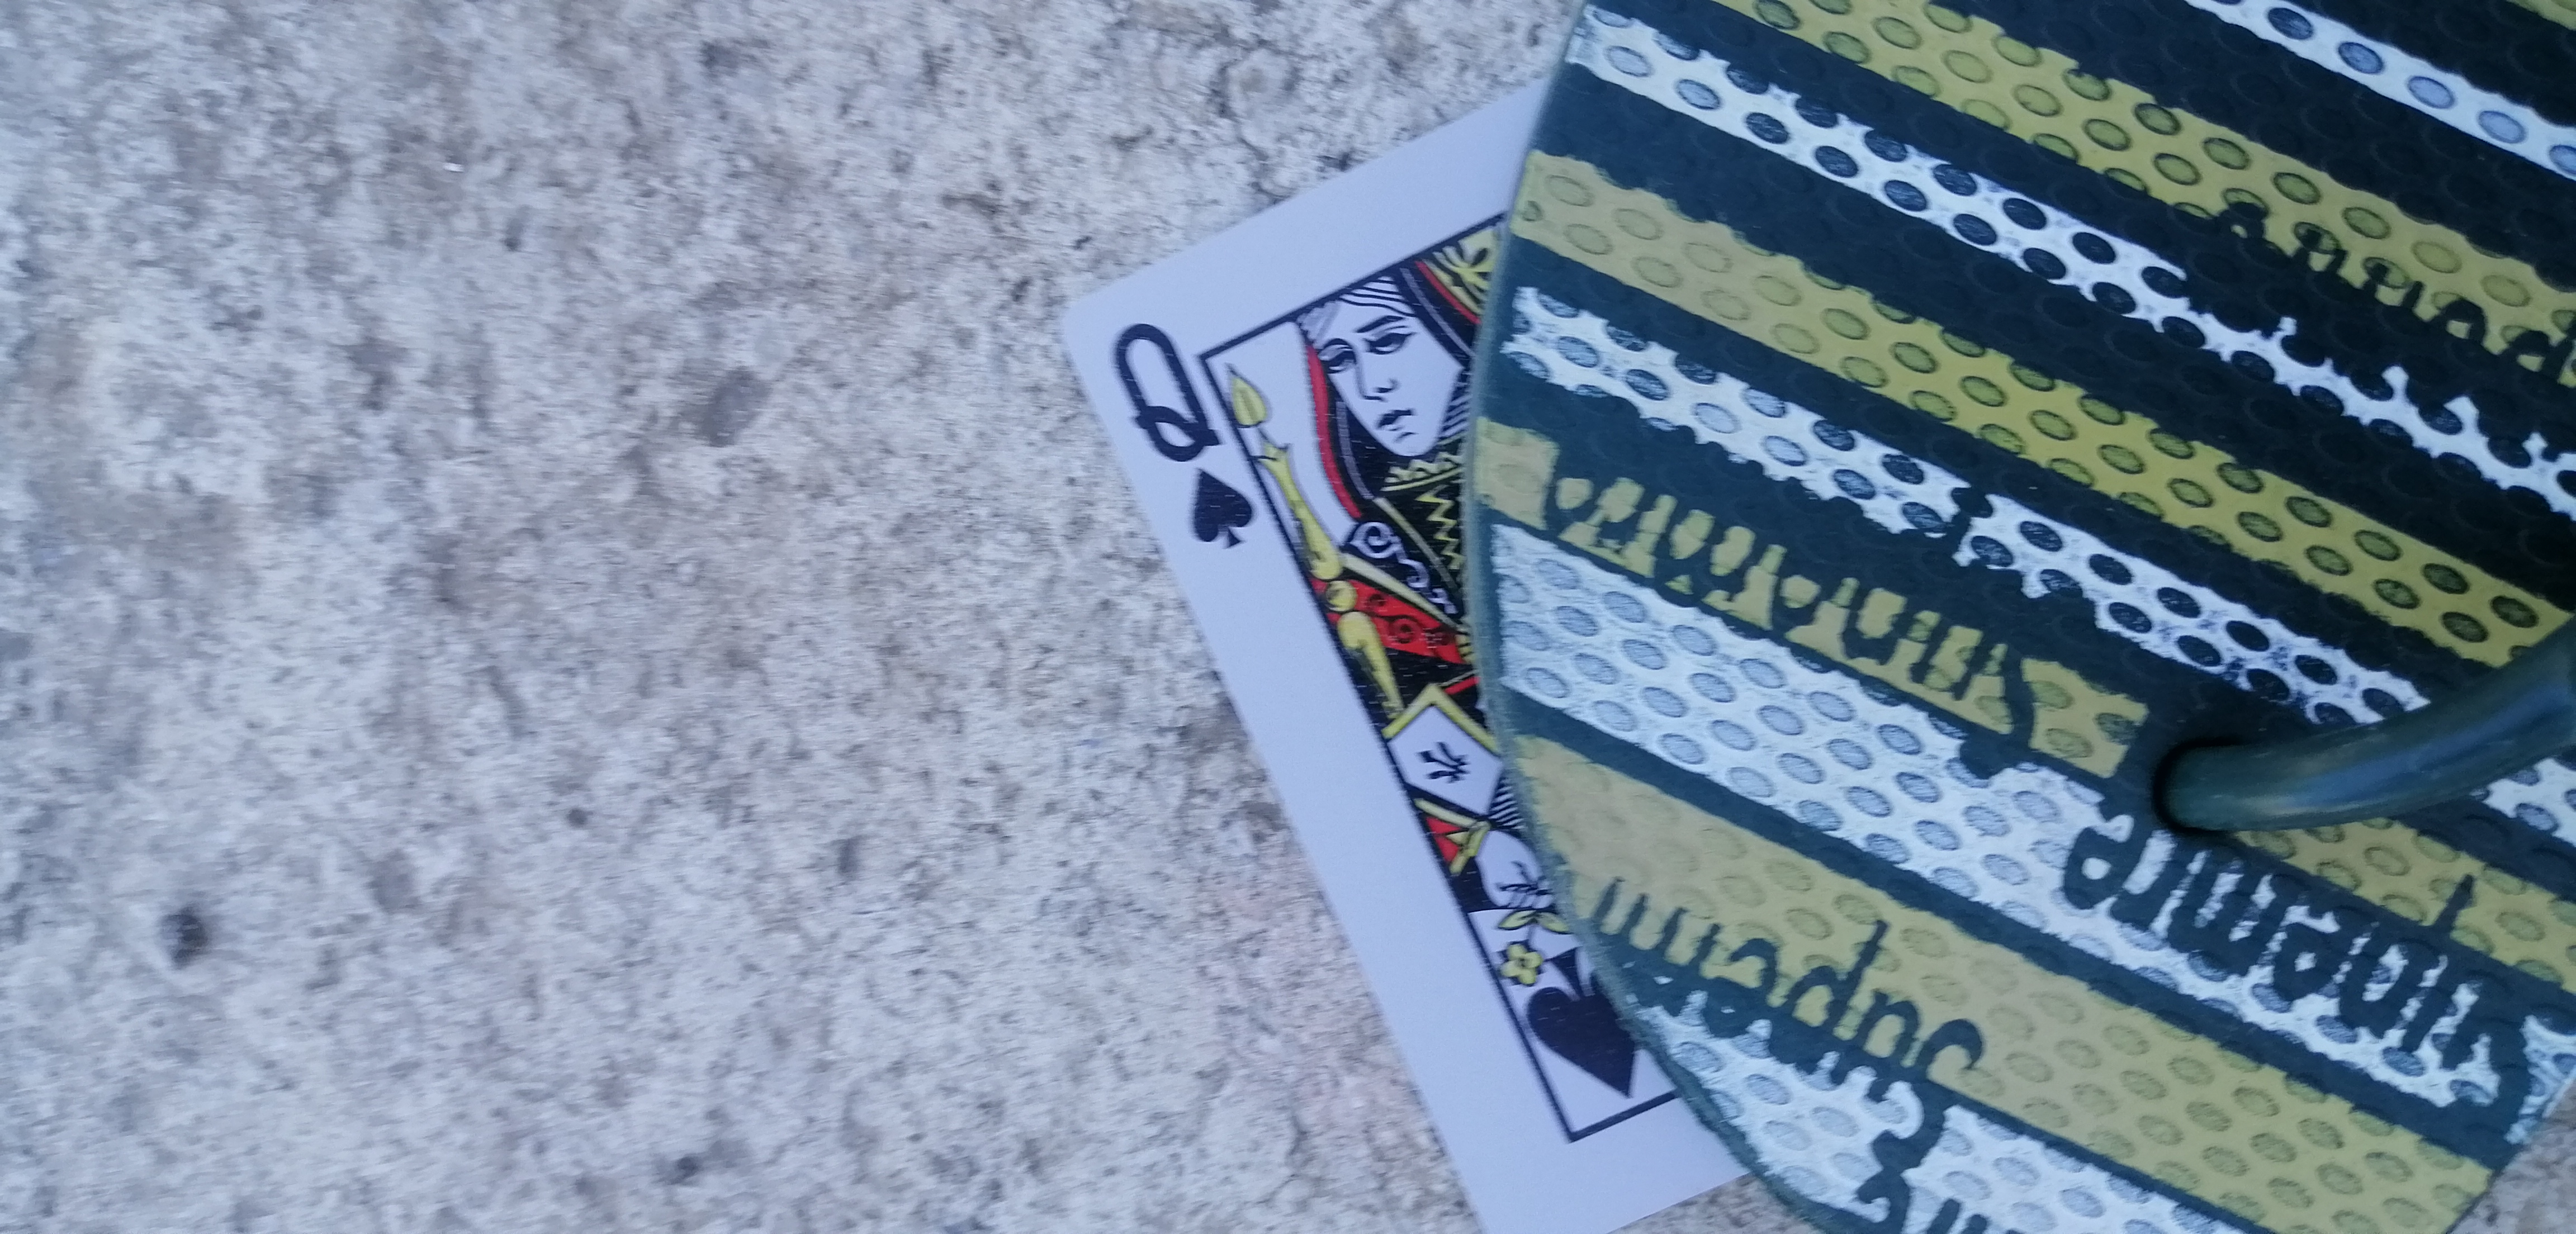queen: (981, 97, 1758, 1224)
